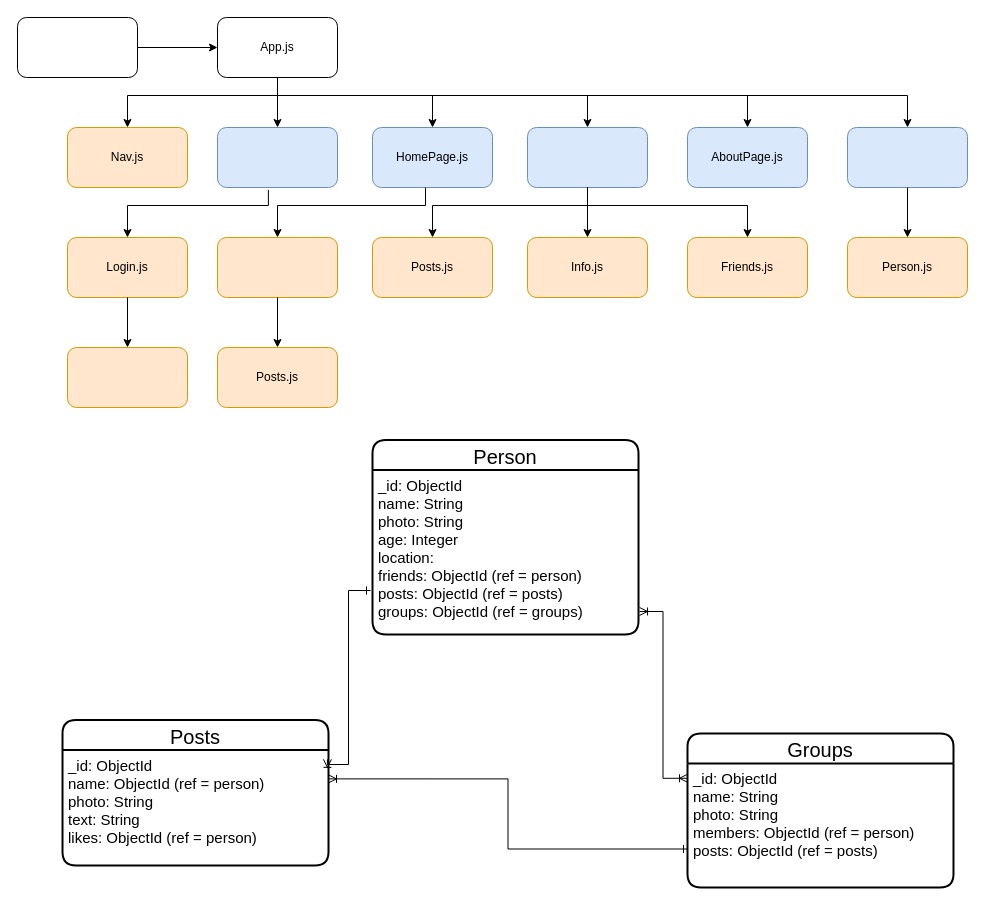
The diagram is 985 pixels wide and 906 high, and some of its shapes have lost their labels. The centre of each missing label's shape, as x and y in pixels:
CreateAccount.js: the point at 127,377
FriendFinderPage.js: the point at 907,157
index.js: the point at 77,47
LoginPage.js: the point at 277,157
NewsFeed.js: the point at 277,267
ProfilePage.js: the point at 587,157
